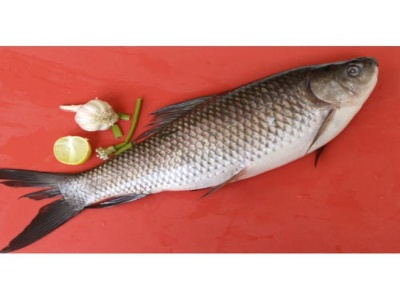rohu: (5, 51, 387, 253)
